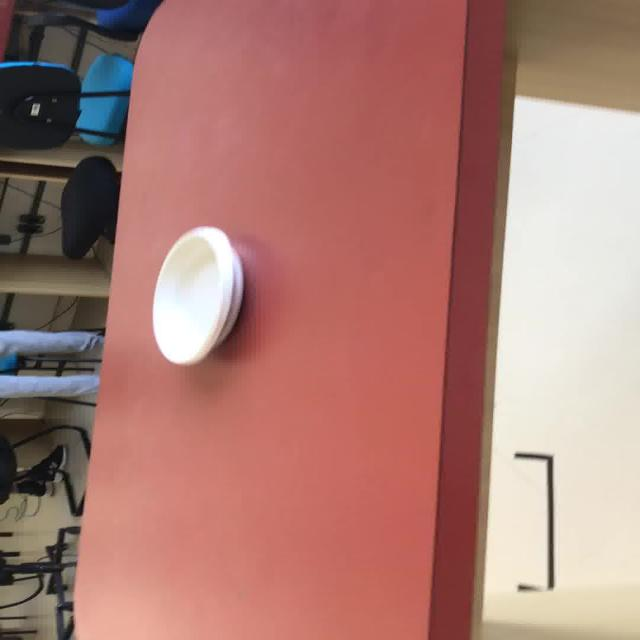plate: (151, 225, 244, 366), (59, 156, 118, 260)
